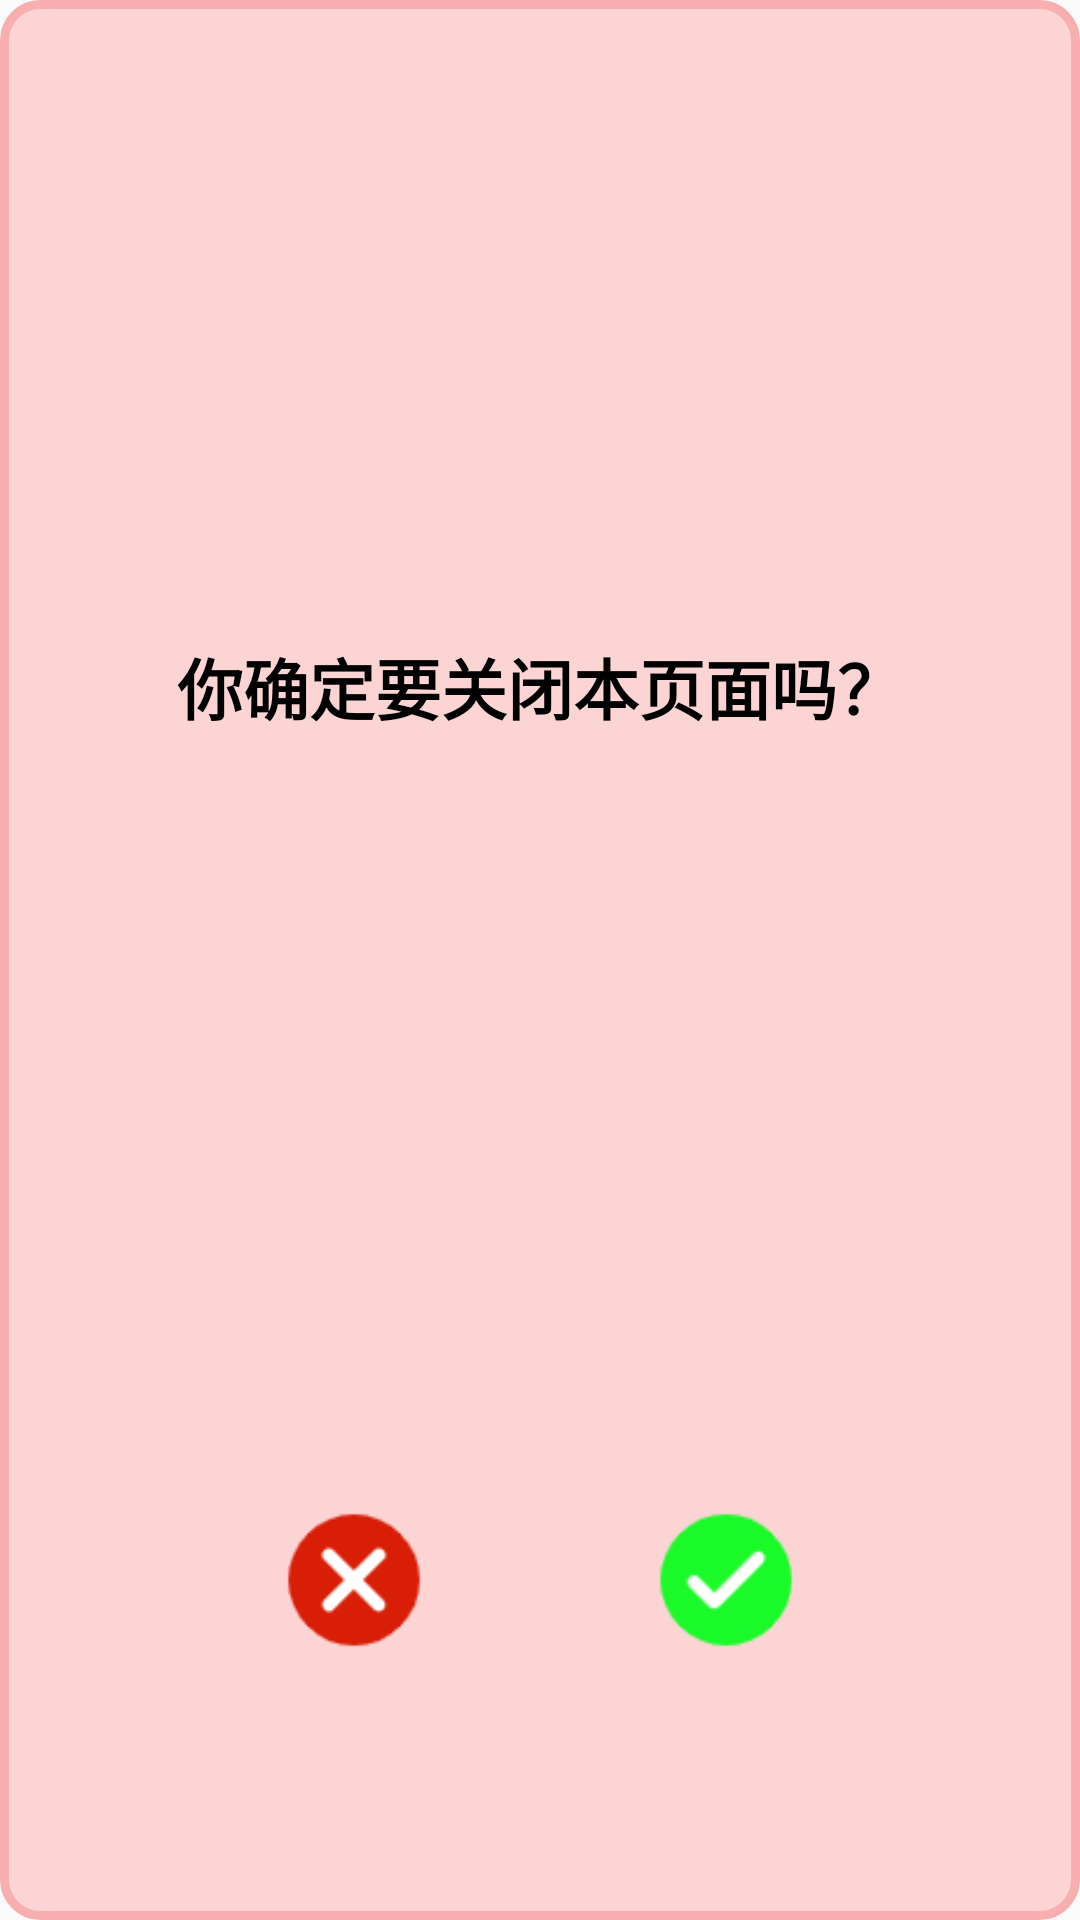

Where to tap for icons on this 1080x1920 app screen, as (x,y):
cancel: (354,1580)
confirm: (726,1580)
